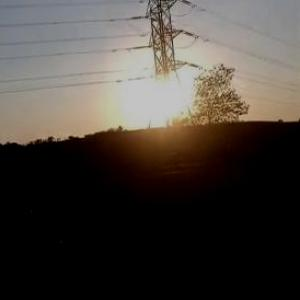follow: (1, 173, 78, 299)
